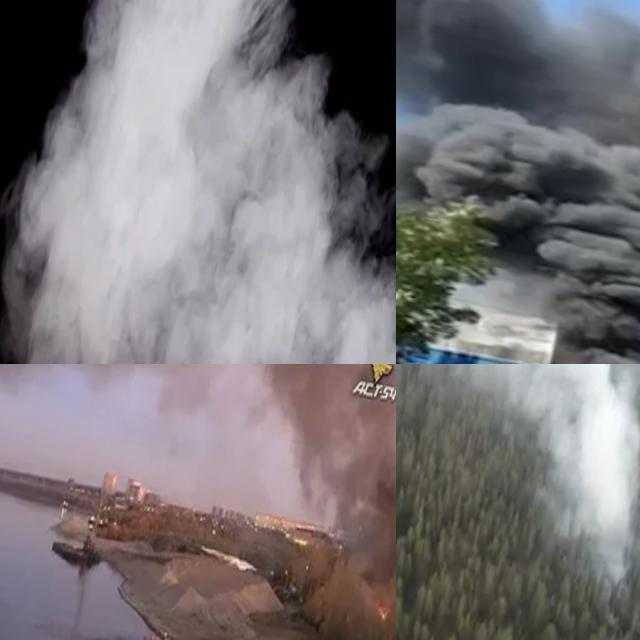smoke: (0, 0, 396, 364), (396, 0, 640, 364), (105, 364, 396, 632), (396, 364, 640, 584)
